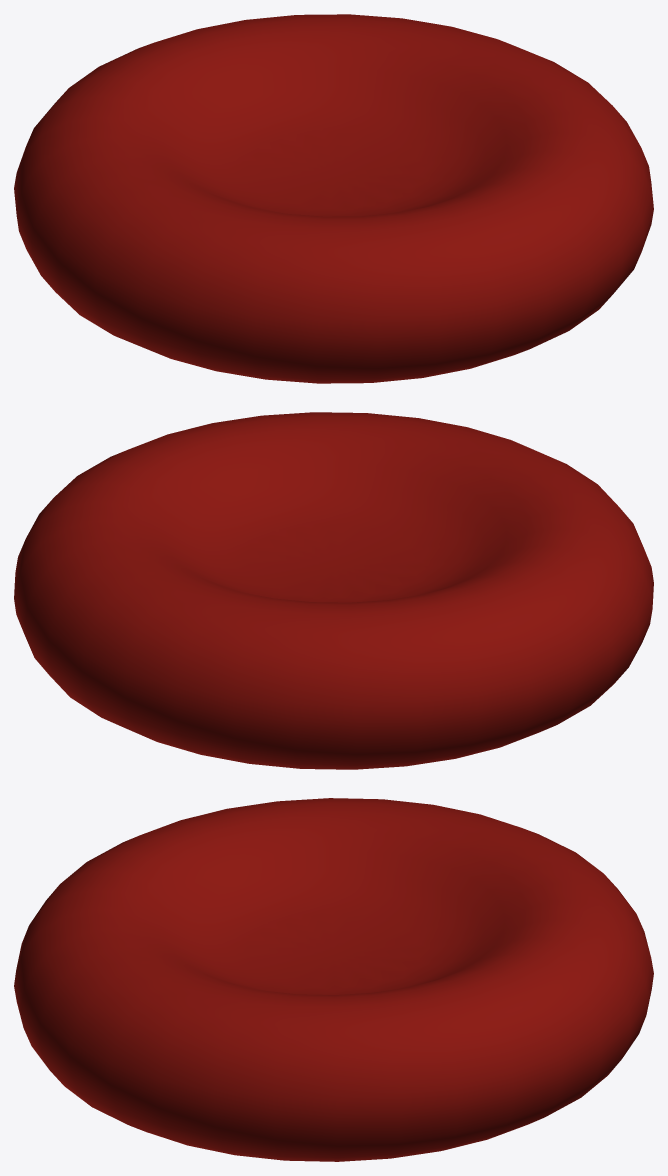
The model's file is RBC1.gltf.
3 views of the same model, one above another, from view 1: azimuth 30°, elevation 25°; view 2: azimuth 150°, elevation 25°; view 3: azimuth 270°, elevation 25° (orthographic).
Visible parts, largest first — view 1: Torus.002_0; view 2: Torus.002_0; view 3: Torus.002_0.
Boxes of the visible parts, x1,y1,x2,y2 form: Torus.002_0: (14, 14, 653, 383); Torus.002_0: (14, 412, 653, 769); Torus.002_0: (14, 798, 653, 1161).
Bounding box in the file's own units: 0.4567 × 0.1309 × 0.4566.
